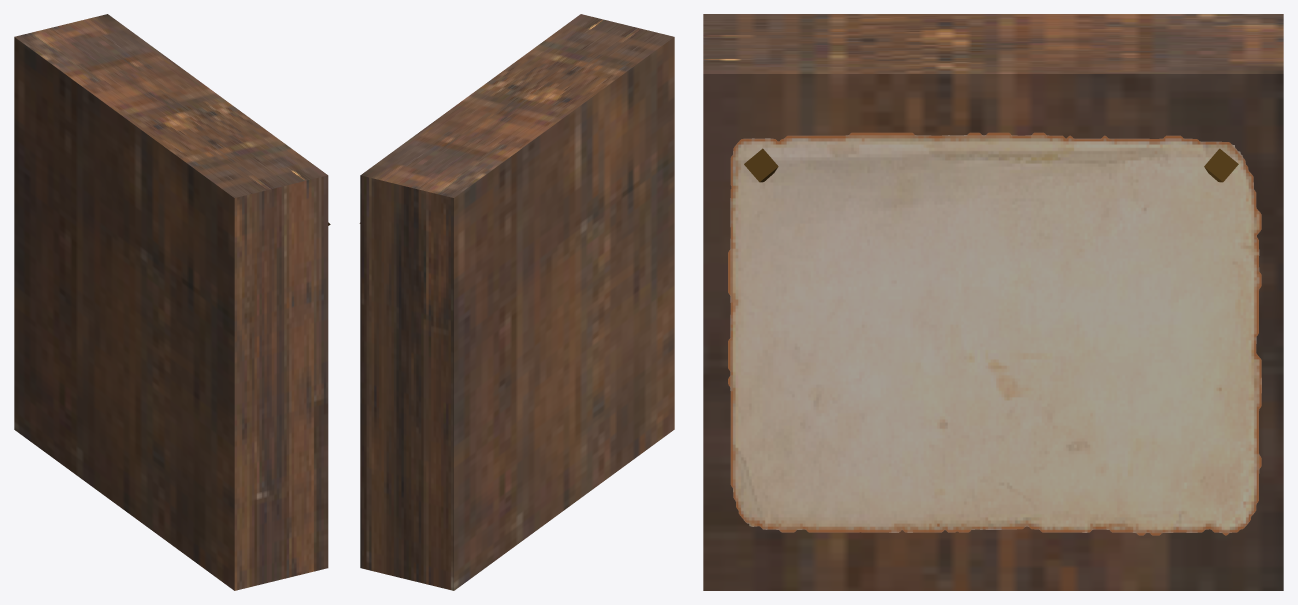
The model's file is podium.fbx.
The picture shows the model from 3 angles, left to right: view 1: azimuth 30°, elevation 25°; view 2: azimuth 150°, elevation 25°; view 3: azimuth 270°, elevation 25°; orthographic projection. The views are drawn at different scales.
Parts seen in each view (by area): view 1: Cube; view 2: Cube; view 3: Cube.
Part boxes in pixels (bbox=[...]): Cube: bbox=[14, 14, 330, 590]; Cube: bbox=[359, 14, 674, 590]; Cube: bbox=[703, 14, 1283, 590].
Size of the model in its own units: 169 by 540 by 550.
3 materials, 2 textured.
